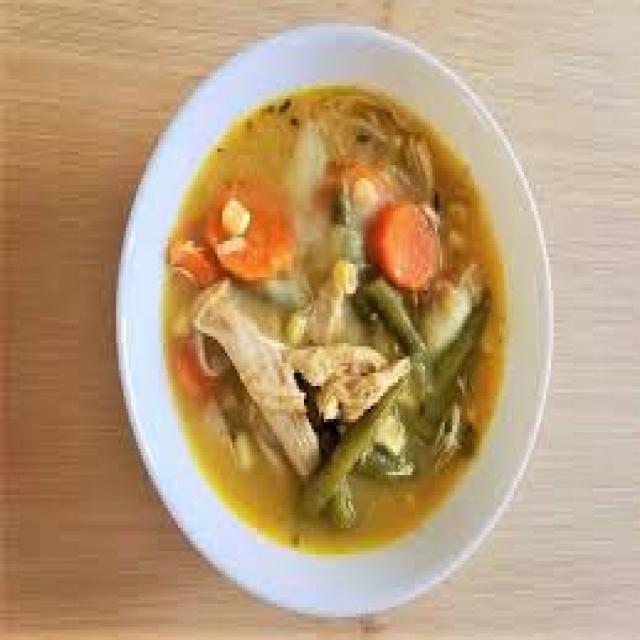organic waste: (168, 96, 504, 260), (168, 386, 502, 548), (286, 85, 391, 548), (166, 260, 504, 382), (195, 284, 319, 478), (294, 366, 400, 525), (403, 284, 489, 442), (284, 336, 408, 419), (203, 172, 294, 277), (366, 194, 435, 294), (282, 122, 331, 244), (353, 274, 428, 353), (324, 155, 390, 214), (173, 324, 230, 389), (309, 442, 351, 525), (168, 234, 222, 287), (331, 251, 358, 297), (329, 175, 353, 224), (277, 310, 311, 340)
